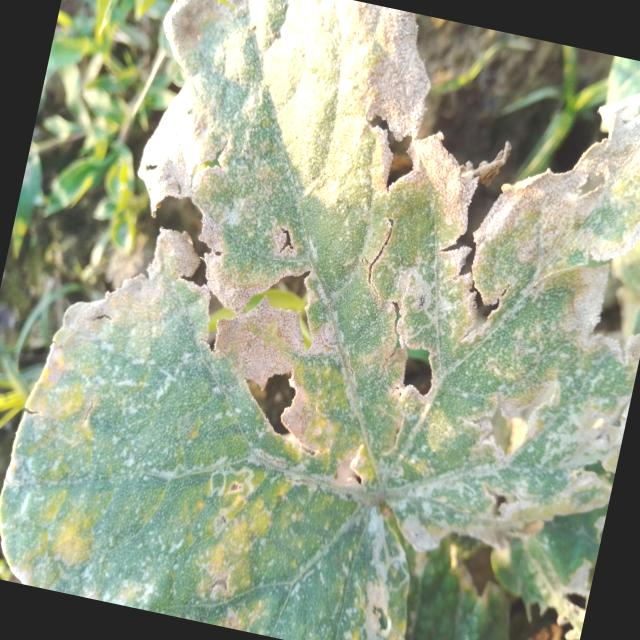cucumber_anthracnose: (91, 32, 640, 640)
